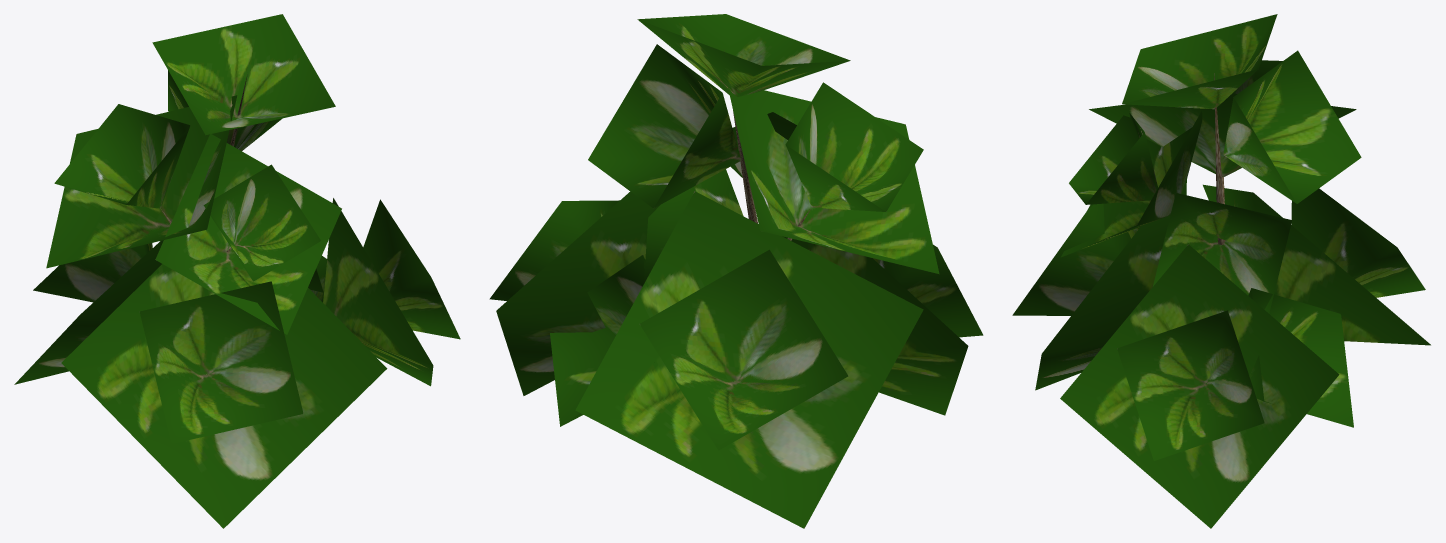
The model's file is leaf_palmbush_a2_l1.fbx.
The picture shows the model from 3 angles, left to right: view 1: azimuth 30°, elevation 25°; view 2: azimuth 150°, elevation 25°; view 3: azimuth 270°, elevation 25°; orthographic projection. The views are drawn at different scales.
Parts seen in each view (by area): view 1: mesh_node; view 2: mesh_node; view 3: mesh_node.
Part boxes in pixels (bbox=[...]): mesh_node: bbox=[14, 14, 460, 528]; mesh_node: bbox=[489, 14, 983, 528]; mesh_node: bbox=[1012, 14, 1430, 528].
Size of the model in its own units: 1.77 by 1.8 by 1.61.
2 materials, 2 textured.
